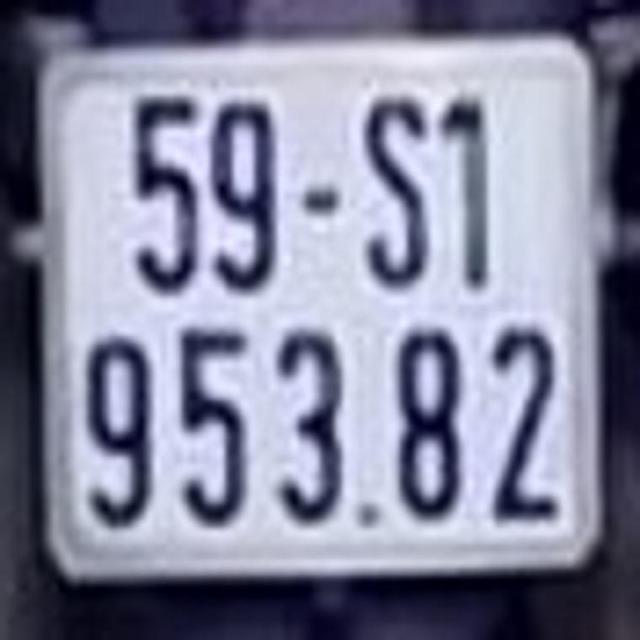1: (439, 65, 508, 289)
2: (481, 285, 569, 522)
3: (266, 295, 349, 530)
5: (167, 306, 257, 529), (118, 80, 205, 299)
8: (385, 295, 471, 528)
9: (74, 315, 156, 536), (206, 76, 286, 302)
S: (350, 74, 437, 293)
